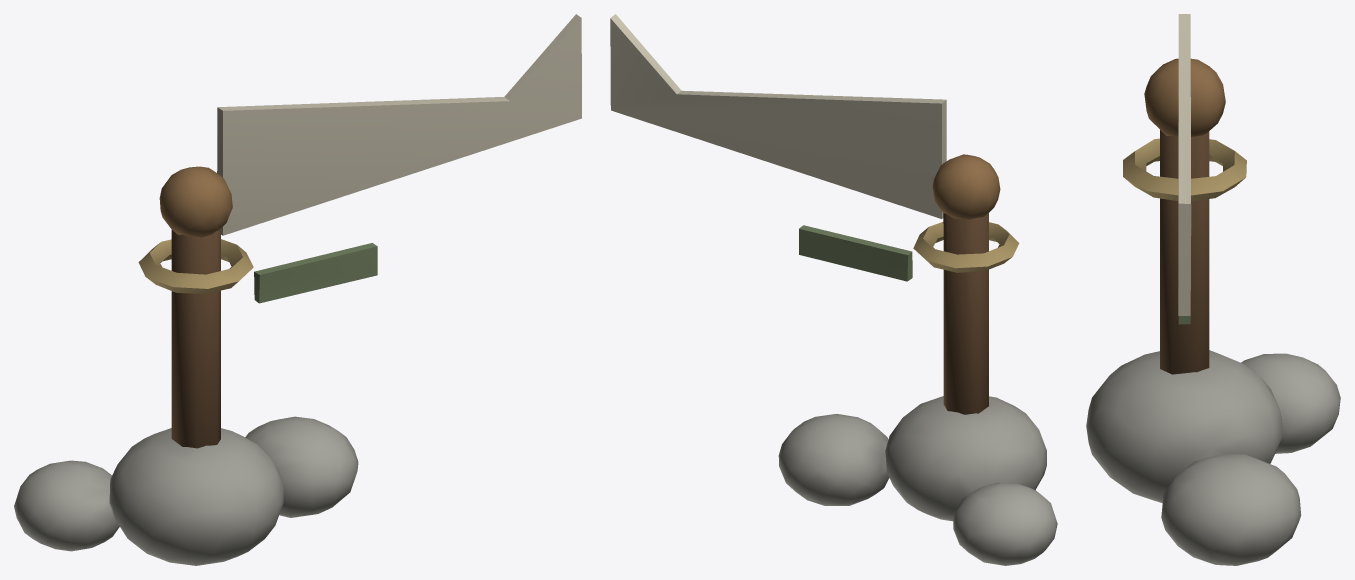
Rendered from kite_pennant_a_lod1.glb.
The picture shows the model from 3 angles, left to right: view 1: azimuth 30°, elevation 25°; view 2: azimuth 150°, elevation 25°; view 3: azimuth 270°, elevation 25°; orthographic projection. The views are drawn at different scales.
Parts seen in each view (by area): view 1: Surface.001; view 2: Surface.001; view 3: Surface.001.
Boxes of the visible parts, x1=… form: Surface.001: x1=14, y1=14, x2=581, y2=565; Surface.001: x1=610, y1=14, x2=1057, y2=565; Surface.001: x1=1086, y1=14, x2=1340, y2=565.
Bounding box in the file's own units: 2.15 × 1.78 × 0.8239.
